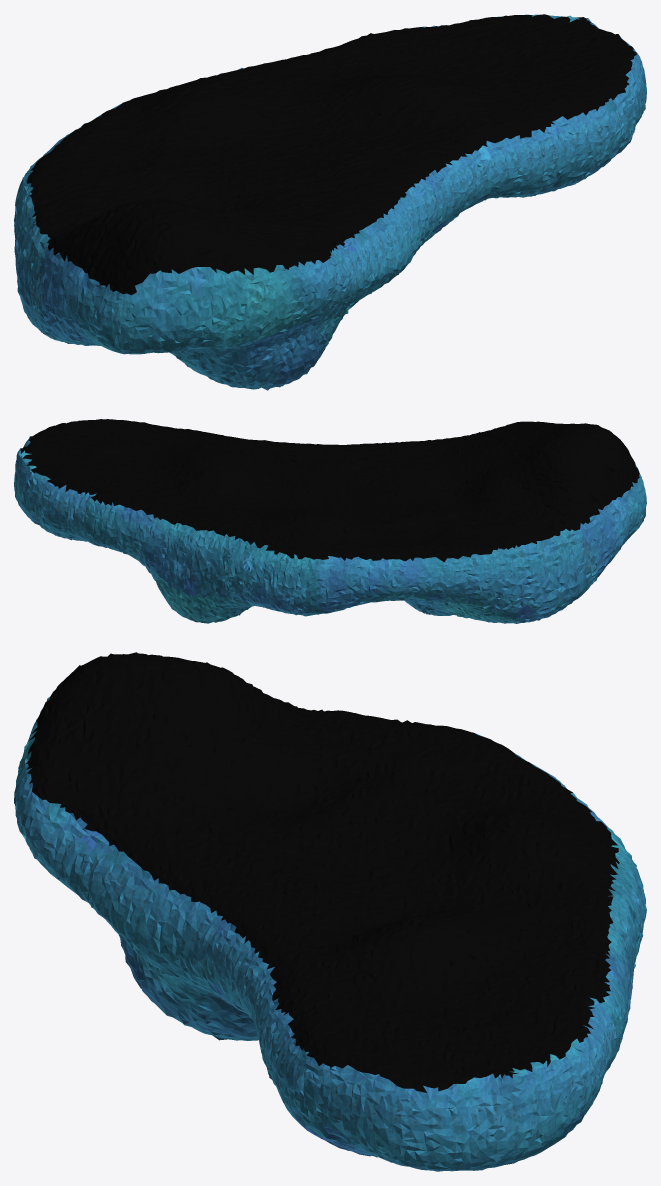
The model's file is asteroidsbetter.obj.
3 views of the same model, one above another, from view 1: azimuth 30°, elevation 25°; view 2: azimuth 150°, elevation 25°; view 3: azimuth 270°, elevation 25° (orthographic). The views are drawn at different scales.
Parts seen in each view (by area): view 1: plane; view 2: plane; view 3: plane.
Part boxes in pixels (<box>): plane: <box>14,14,646,390</box>; plane: <box>14,419,646,623</box>; plane: <box>14,652,646,1171</box>.
Size of the model in its own units: 518 by 172 by 338.
